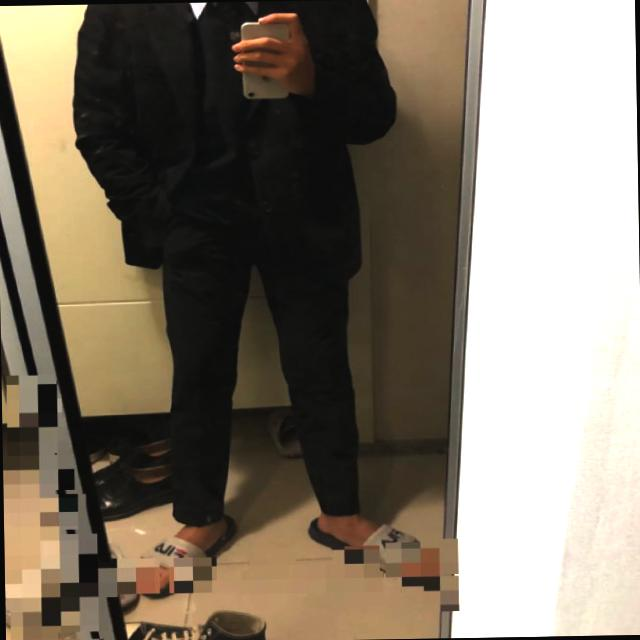blazer: (72, 0, 403, 286)
slacks: (162, 206, 368, 530)
